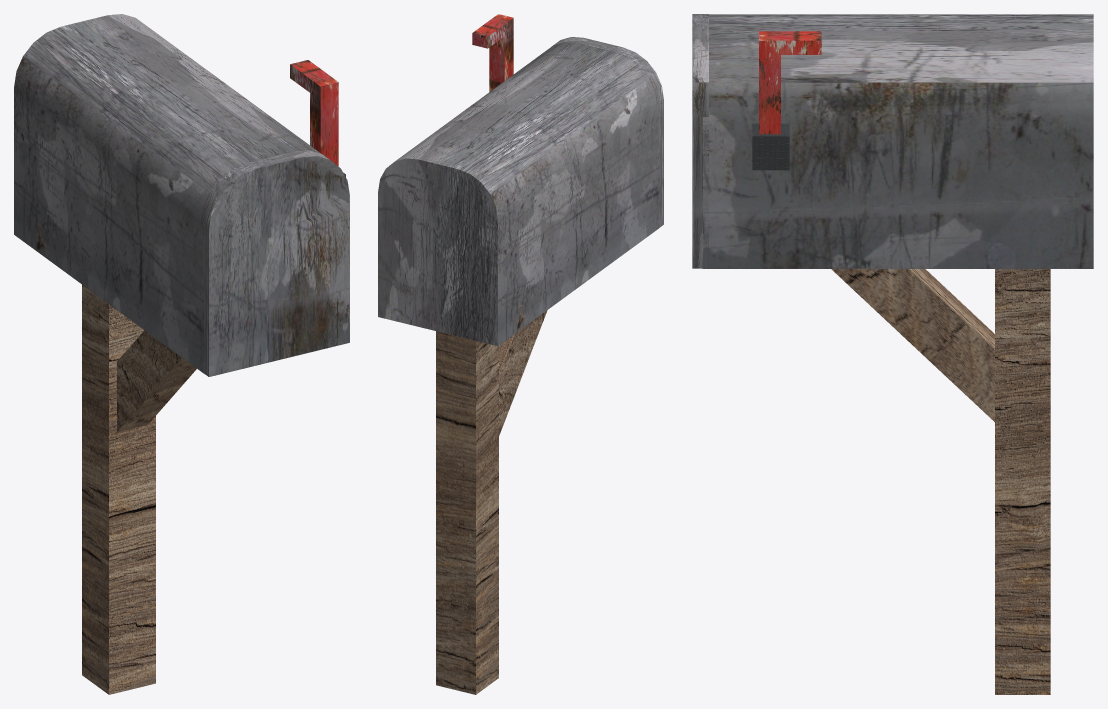
File: Mailbox.fbx
The picture shows the model from 3 angles, left to right: view 1: azimuth 30°, elevation 25°; view 2: azimuth 150°, elevation 25°; view 3: azimuth 270°, elevation 25°; orthographic projection. The views are drawn at different scales.
Visible parts, largest first — view 1: pCube2, pCube4, pCube1, pCube3, pCube6; view 2: pCube2, pCube1, pCube3, pCube6, pCube4; view 3: pCube2, pCube1, pCube3, pCube4, pCube6, pCube5.
Part boxes in pixels (left/top/right/bottom): pCube2: left=14, top=14, right=321, bottom=373; pCube4: left=200, top=150, right=349, bottom=376; pCube1: left=82, top=285, right=155, bottom=694; pCube3: left=117, top=330, right=196, bottom=431; pCube6: left=290, top=60, right=338, bottom=166; pCube2: left=378, top=42, right=659, bottom=345; pCube1: left=436, top=331, right=498, bottom=694; pCube3: left=499, top=310, right=547, bottom=435; pCube6: left=472, top=14, right=513, bottom=91; pCube4: left=553, top=37, right=663, bottom=227; pCube2: left=702, top=14, right=1093, bottom=268; pCube1: left=995, top=269, right=1050, bottom=694; pCube3: left=831, top=269, right=994, bottom=421; pCube4: left=692, top=14, right=708, bottom=268; pCube6: left=759, top=31, right=821, bottom=134; pCube5: left=752, top=123, right=789, bottom=170.
Size of the model in its own units: 3.54 by 13.6 by 7.18.
Materials: 4 (4 with a texture image).
